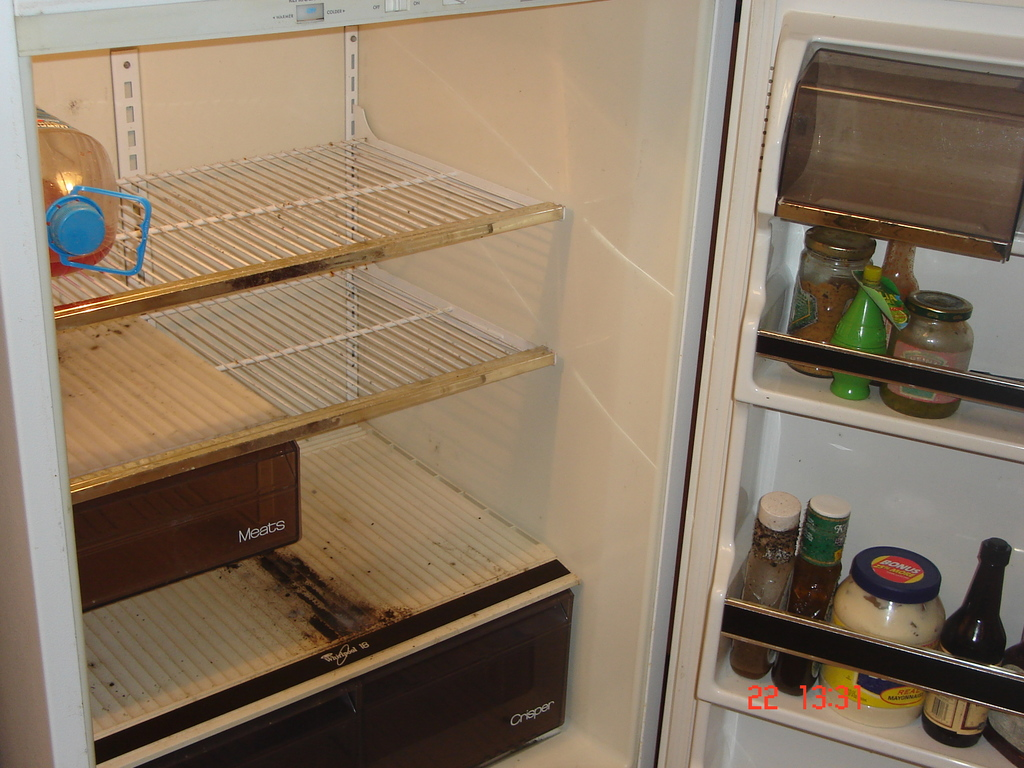refrigerator door: (763, 41, 1024, 768)
